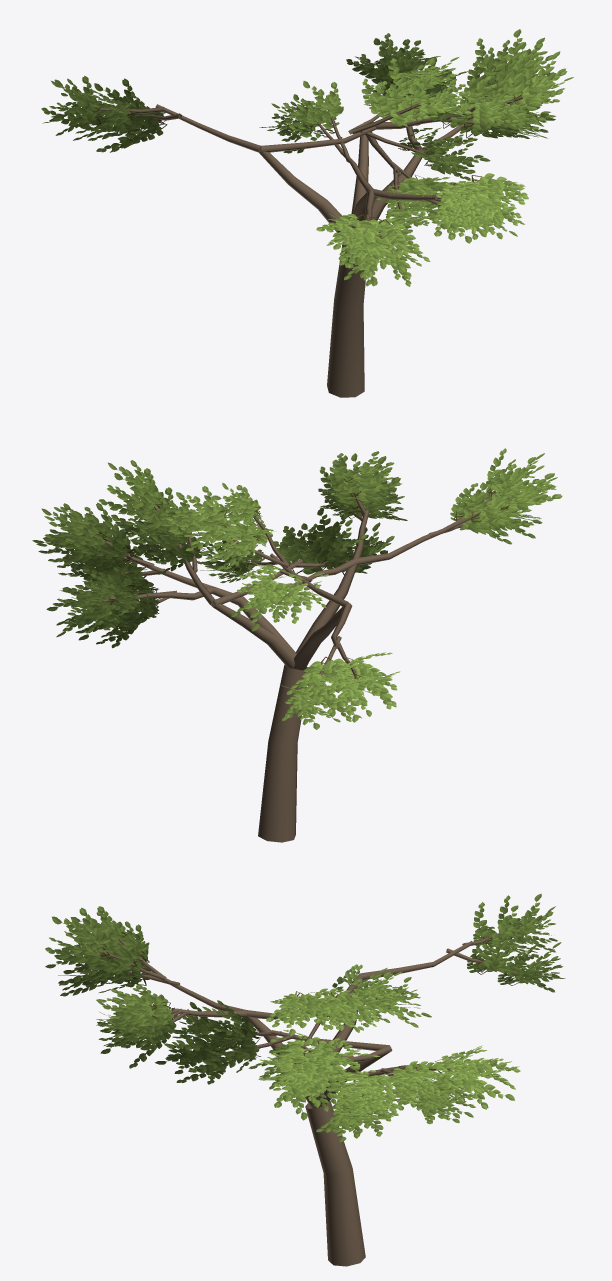
Rendered from acacia_2.glb.
The picture shows the model from 3 angles, top to bottom: view 1: azimuth 30°, elevation 25°; view 2: azimuth 150°, elevation 25°; view 3: azimuth 270°, elevation 25°; orthographic projection. The views are drawn at different scales.
Visible parts, largest first — view 1: acacia_2; view 2: acacia_2; view 3: acacia_2.
Boxes of the visible parts, x1,y1,x2,y2 form: acacia_2: [41, 29, 573, 397]; acacia_2: [32, 448, 562, 842]; acacia_2: [45, 893, 565, 1266].
Bounding box in the file's own units: 8.97 × 5.85 × 9.85.
Materials: 2 (1 with a texture image).
